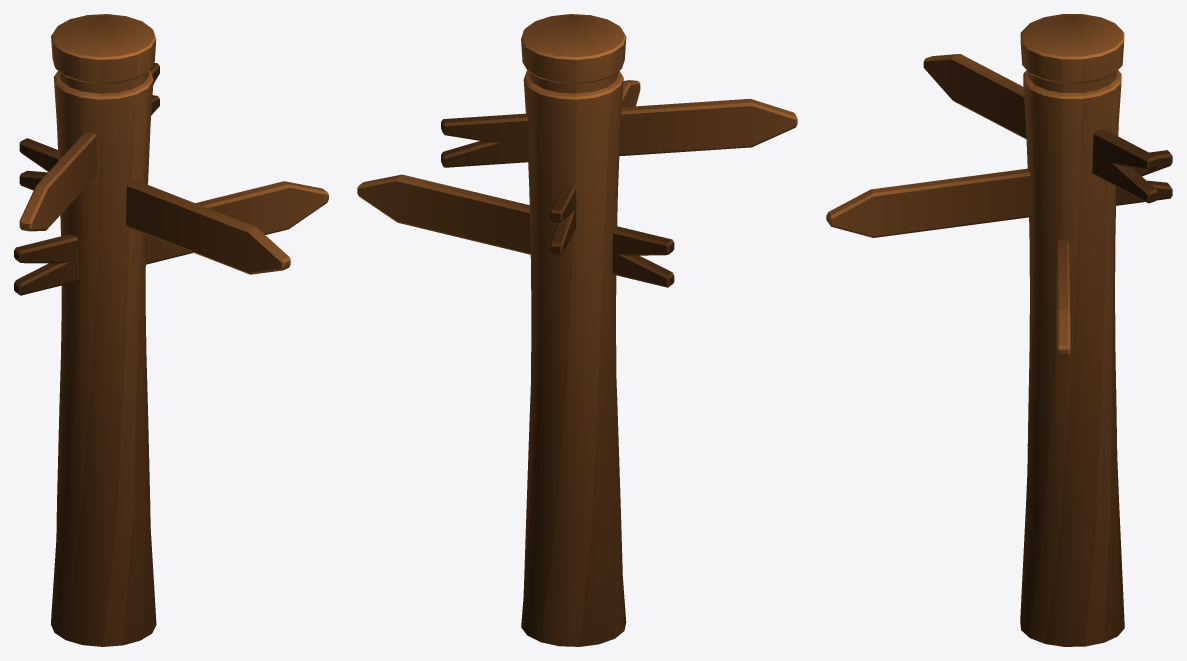
File: Signal-M-1.fbx
3 views of the same model, side by side, from view 1: azimuth 30°, elevation 25°; view 2: azimuth 150°, elevation 25°; view 3: azimuth 270°, elevation 25° (orthographic).
Visible parts, largest first — view 1: Signal-M-1; view 2: Signal-M-1; view 3: Signal-M-1.
Part boxes in pixels (x1,y1,x2,y2): Signal-M-1: (14, 14, 328, 646); Signal-M-1: (357, 14, 797, 646); Signal-M-1: (826, 14, 1172, 646).
Size of the model in its own units: 300 by 469 by 241.
